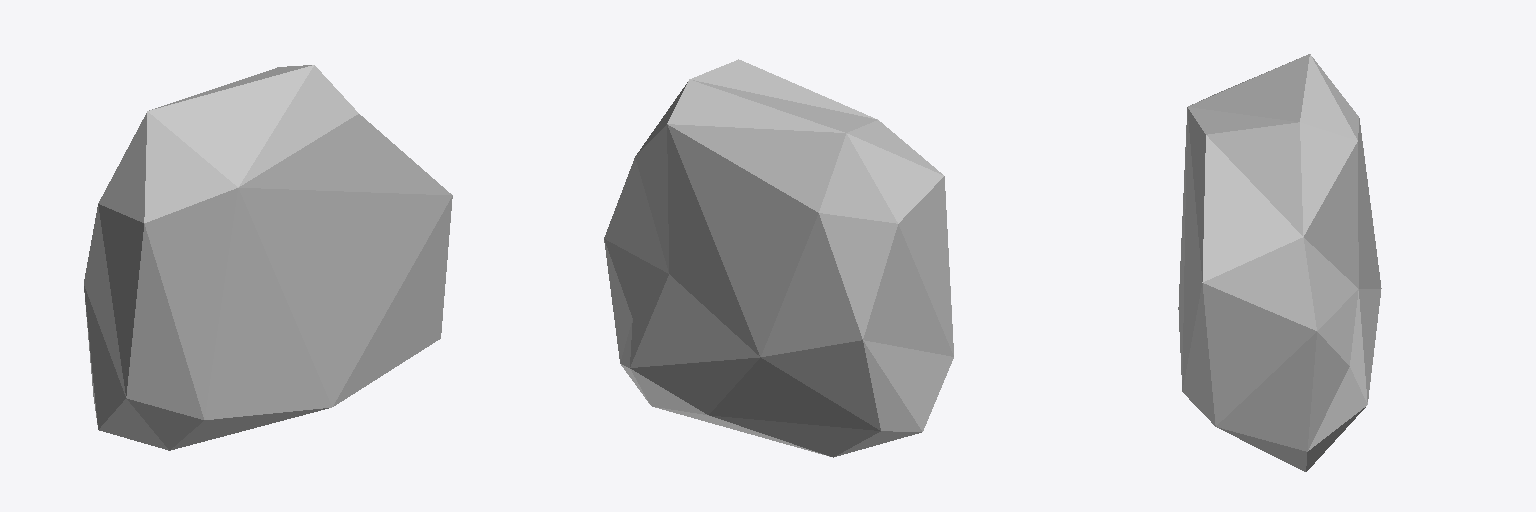
Rendered from rock.obj.
3 views of the same model, side by side, from view 1: azimuth 30°, elevation 25°; view 2: azimuth 150°, elevation 25°; view 3: azimuth 270°, elevation 25° (orthographic).
Parts seen in each view (by area): view 1: Cube; view 2: Cube; view 3: Cube.
Boxes of the visible parts, <box> form: Cube: <box>84,65,452,450</box>; Cube: <box>604,59,953,457</box>; Cube: <box>1178,54,1381,471</box>.
Size of the model in its own units: 4.58 by 4.63 by 2.55.